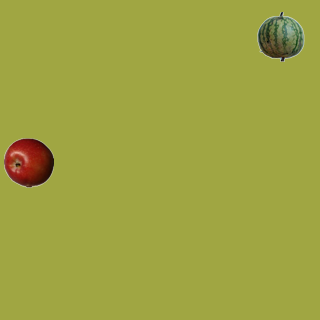Apple Braeburn: (3, 137, 53, 187)
Watermelon: (255, 11, 305, 61)
